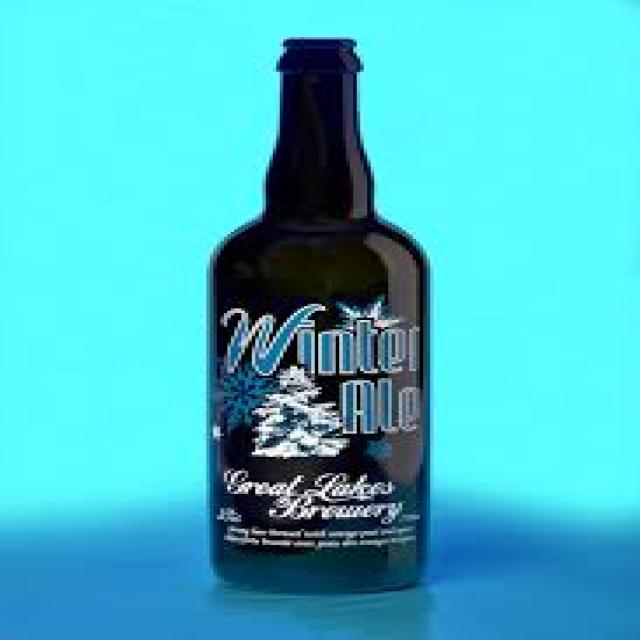glass: (210, 37, 423, 594)
